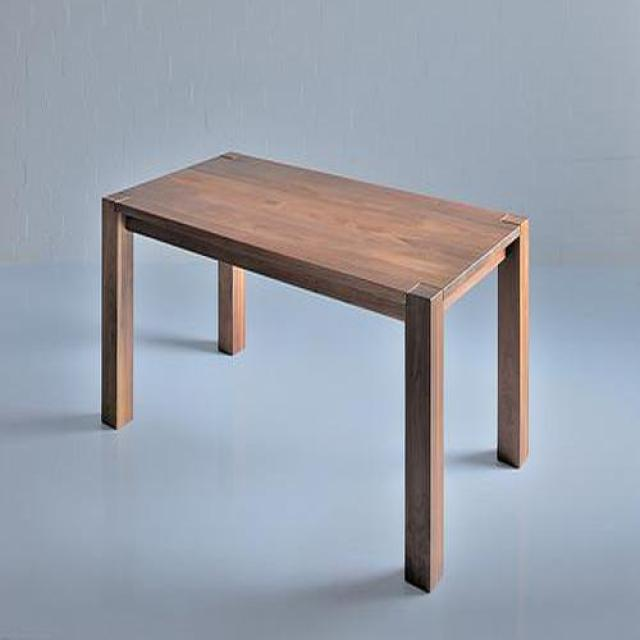table: (100, 152, 530, 595)
